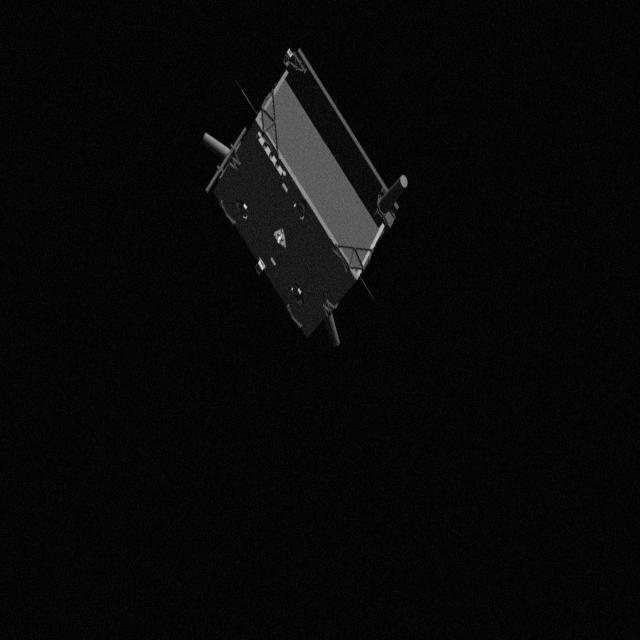medium_debris: (200, 42, 416, 352)
